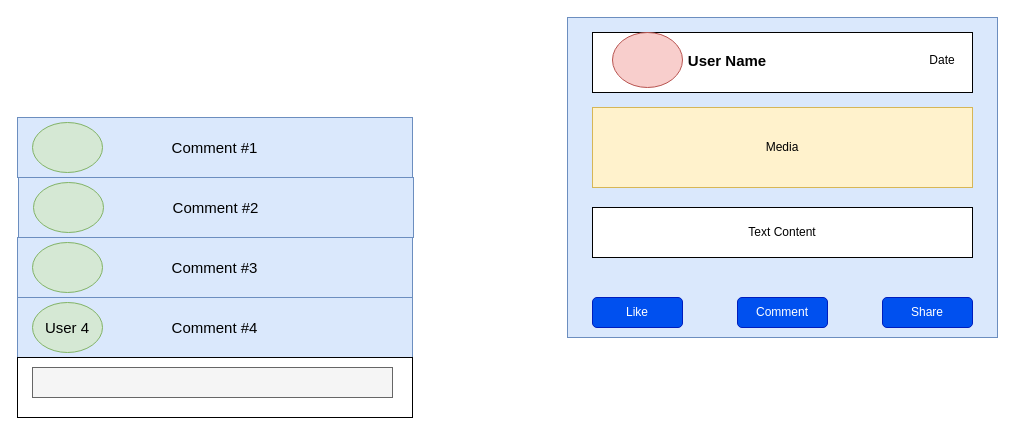
Some shapes in this 1015 by 435 pixel diagram are drawn without their labels. The box of each missing label's shape, as (x1, y1, x2, y2) in pixels:
DP: (612, 32, 682, 88)
Type new comment: (32, 366, 392, 398)
User 1: (32, 122, 102, 172)
User 2: (32, 182, 104, 232)
User 3: (32, 242, 102, 292)
